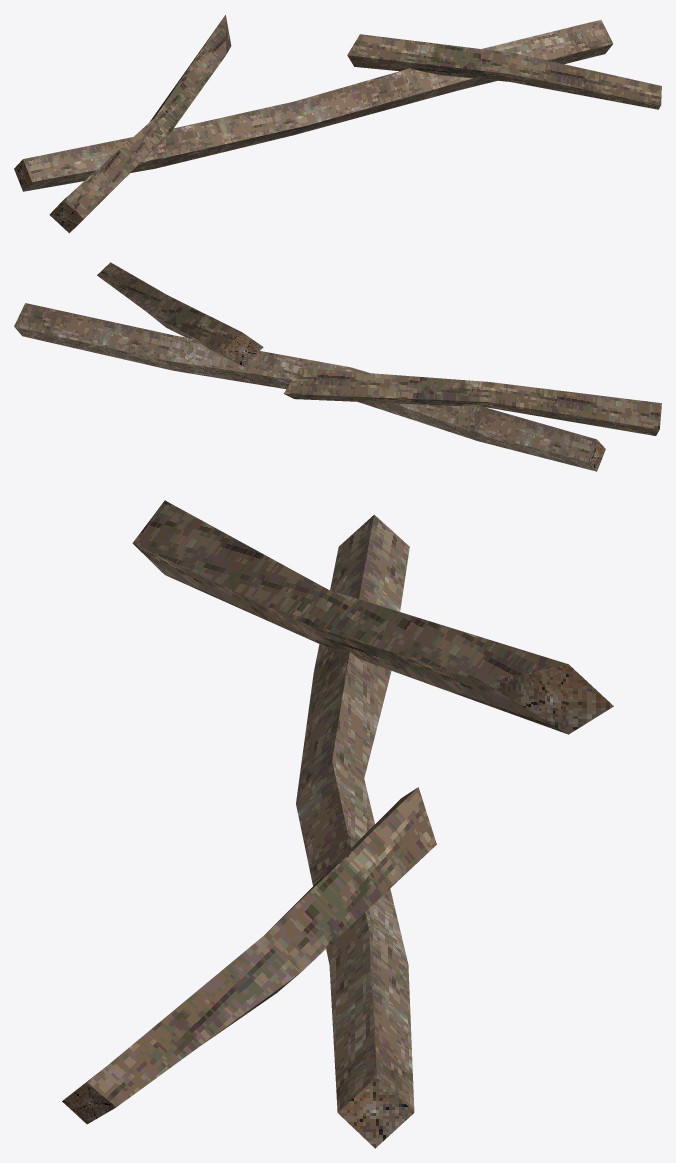
Rendered from wooden_fence_pile.glb.
3 renders of one model, top to bottom at view 1: azimuth 30°, elevation 25°; view 2: azimuth 150°, elevation 25°; view 3: azimuth 270°, elevation 25°, orthographic. The views are drawn at different scales.
Parts seen in each view (by area): view 1: wooden_fence_pile; view 2: wooden_fence_pile; view 3: wooden_fence_pile.
Boxes of the visible parts, x1,y1,x2,y2 form: wooden_fence_pile: [14, 15, 661, 233]; wooden_fence_pile: [14, 262, 661, 471]; wooden_fence_pile: [62, 500, 613, 1148].
Size of the model in its own units: 2.06 by 0.2763 by 0.8314.
1 material, 1 textured.
